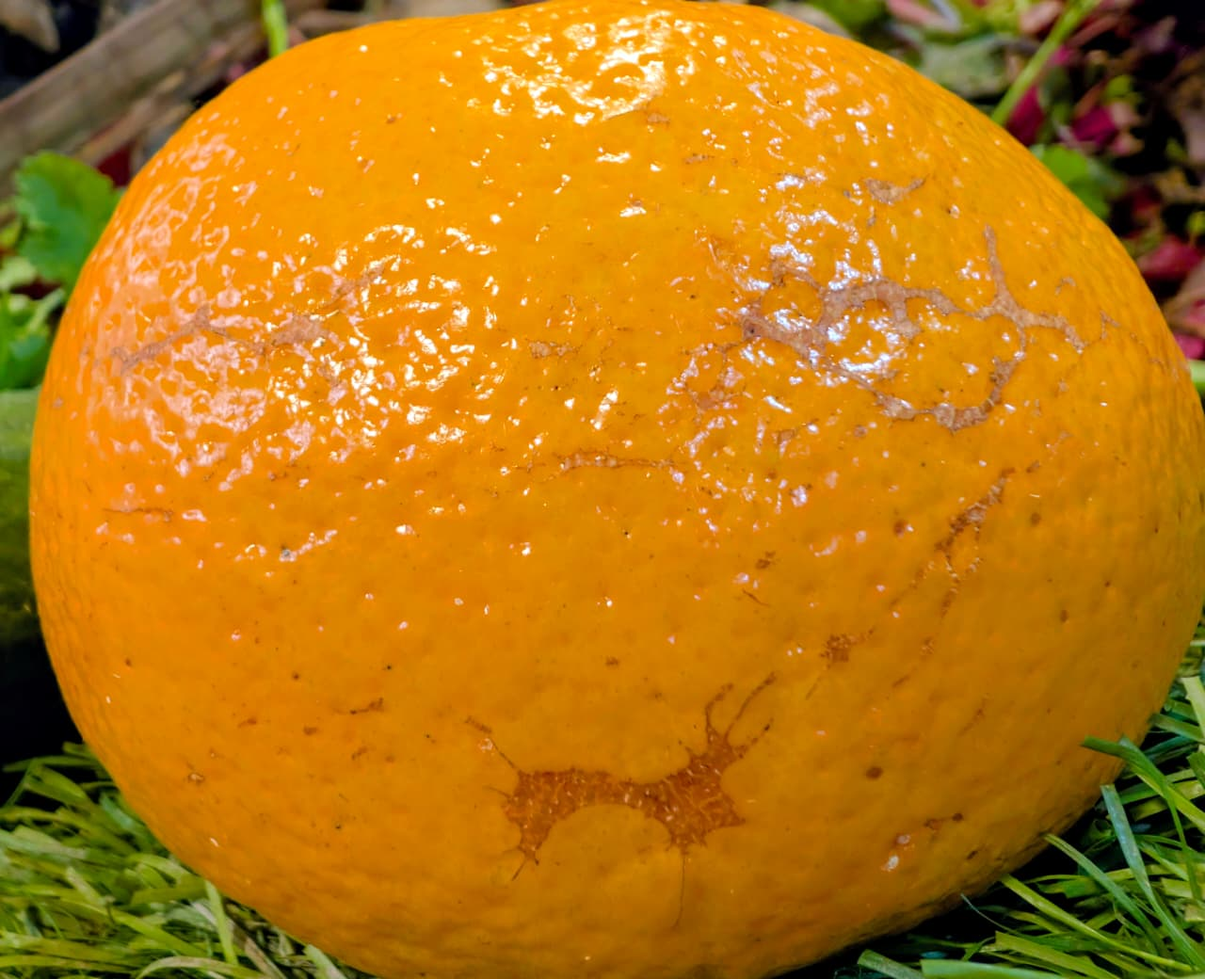orange: (204, 137, 954, 919)
